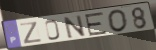0: (45, 19, 62, 41)
8: (131, 6, 149, 30)
E: (83, 11, 109, 37)
N: (62, 14, 88, 40)
O: (107, 9, 129, 33)
Z: (19, 20, 44, 45)
